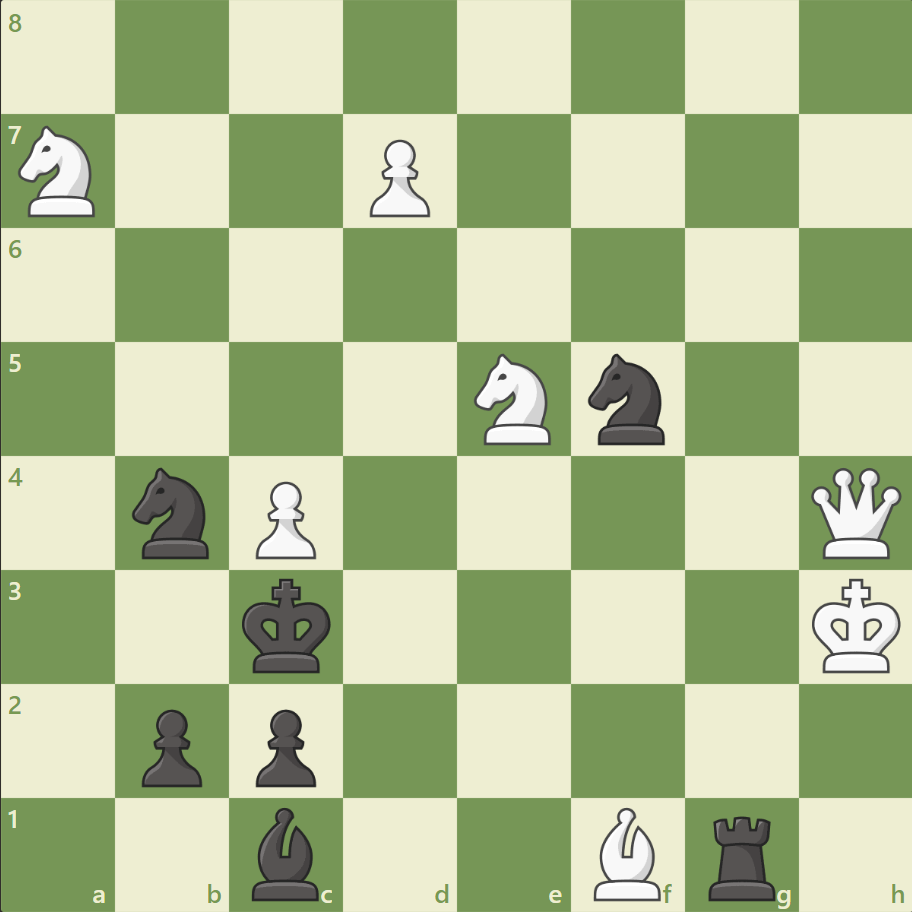B: (585, 801, 669, 904)
K: (806, 571, 906, 679)
N: (11, 121, 108, 223), (465, 348, 562, 450)
P: (247, 473, 322, 564), (361, 132, 435, 223)
Q: (805, 463, 904, 562)
b: (244, 801, 328, 904)
k: (238, 571, 338, 679)
n: (124, 461, 222, 564), (579, 348, 676, 450)
p: (133, 700, 208, 791), (247, 700, 322, 791)
r: (700, 806, 783, 904)
